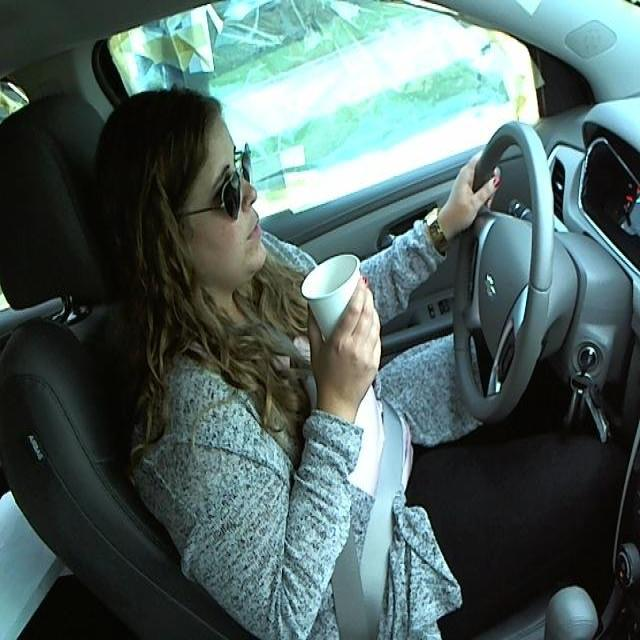Seatbelt: (291, 251, 367, 360)
